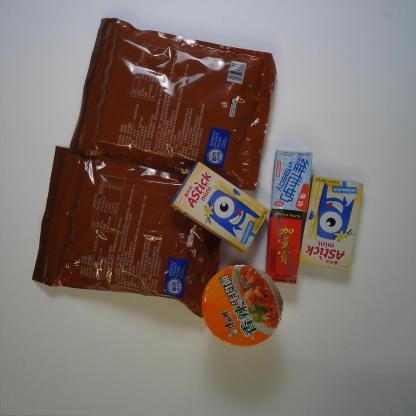Dessert: (169, 160, 270, 254), (298, 175, 365, 274)
Dried Food: (69, 17, 277, 193), (29, 145, 222, 320)
Drink: (265, 208, 306, 286)
Instant Noodles: (199, 262, 286, 351)
Milk: (269, 148, 314, 212)
